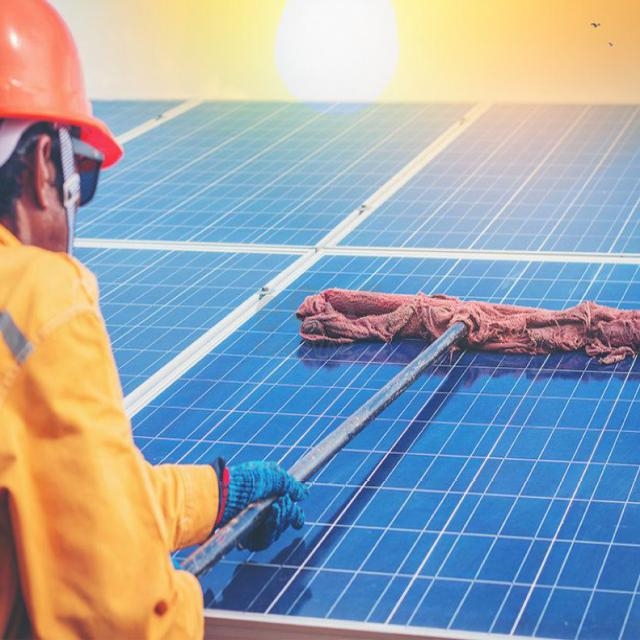clean-solar-panel: (78, 102, 640, 464)
